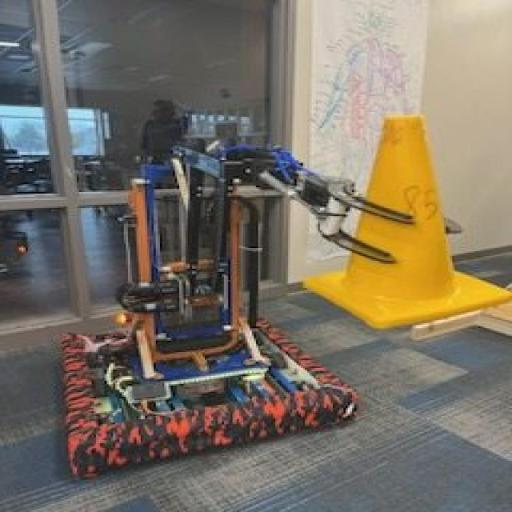robot: (48, 125, 494, 476)
